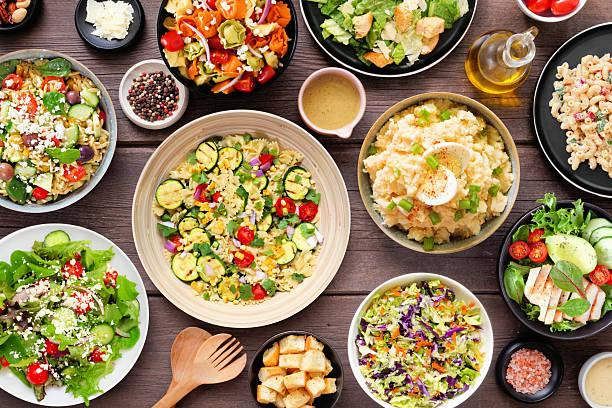Braised Crucian Carp: (130, 109, 345, 325), (1, 223, 149, 407), (358, 91, 517, 252), (347, 272, 493, 404), (1, 48, 116, 210), (496, 202, 609, 337), (156, 0, 292, 101)
